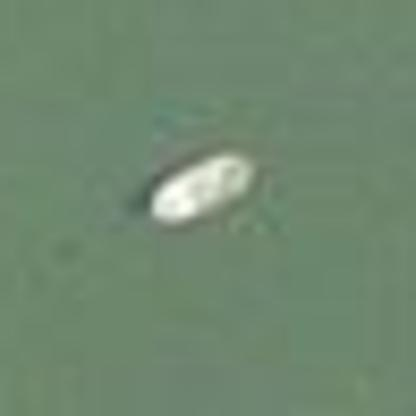ship: (121, 134, 275, 238)
